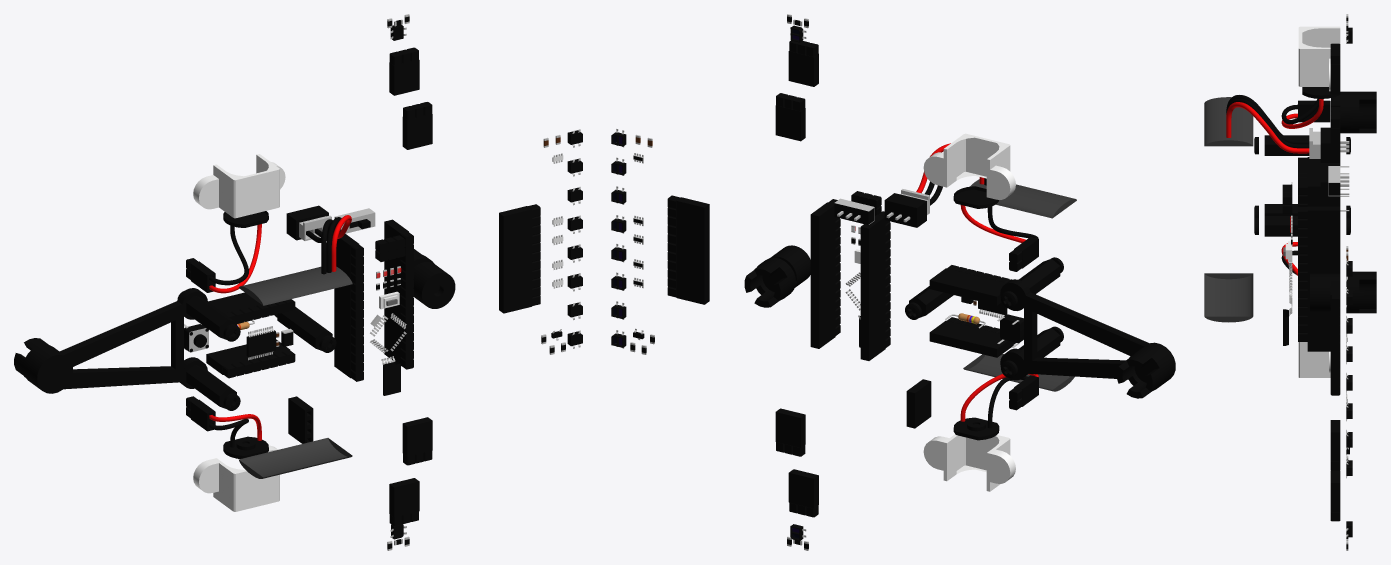
The model's file is Plastic02.obj.
The picture shows the model from 3 angles, left to right: view 1: azimuth 30°, elevation 25°; view 2: azimuth 150°, elevation 25°; view 3: azimuth 270°, elevation 25°; orthographic projection.
Parts seen in each view (by area): view 1: motors_plastic, back_caster, battery, screws, base_nano, header_nano, base_IR, devices_IR, devices_nano, base_HRL, base_HRL_V2, header_driver (+12 smaller); view 2: motors_plastic, back_caster, base_nano, base_driver, base_IR, screws, battery, devices_IR, base_HRL, base_HRL_V2, SW_PWR, front_caster (+9 smaller); view 3: battery, base_nano, motors_plastic, screws, back_caster, header_nano, front_caster, SW_PWR, header_IR, devices_IR, devices_nano, buzzer (+15 smaller).
Boxes of the visible parts, x1,y1,x2,y2 form: motors_plastic: (193, 154, 285, 511); back_caster: (14, 288, 207, 393); battery: (238, 266, 352, 478); screws: (177, 290, 336, 410); base_nano: (334, 219, 408, 378); header_nano: (351, 232, 413, 381); base_IR: (499, 206, 532, 313); devices_IR: (541, 129, 582, 354); devices_nano: (370, 235, 406, 395); base_HRL: (402, 114, 432, 456); base_HRL_V2: (389, 60, 419, 517); header_driver: (223, 299, 295, 378); motors_plastic: (923, 133, 1015, 491); back_caster: (1000, 279, 1175, 398); base_nano: (810, 202, 885, 360); base_driver: (929, 268, 1013, 357); base_IR: (676, 197, 709, 304); screws: (905, 257, 1063, 377); battery: (963, 179, 1076, 391); devices_IR: (611, 128, 654, 354); base_HRL: (775, 105, 805, 447); base_HRL_V2: (788, 51, 818, 508); SW_PWR: (834, 193, 926, 227); front_caster: (744, 257, 795, 307); battery: (1204, 97, 1253, 322); base_nano: (1307, 182, 1340, 342); motors_plastic: (1298, 26, 1340, 377); screws: (1254, 135, 1350, 236); back_caster: (1331, 91, 1376, 133); header_nano: (1298, 183, 1307, 341); front_caster: (1346, 271, 1376, 313); SW_PWR: (1320, 127, 1349, 196); header_IR: (1330, 295, 1340, 395); devices_IR: (1346, 246, 1352, 478); devices_nano: (1282, 184, 1292, 345); buzzer: (1310, 273, 1340, 311).
Bounding box in the file's own units: 0.1673 × 0.1534 × 0.0455.
